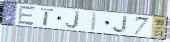7: (132, 16, 151, 36)
E: (16, 5, 38, 27)
I: (90, 12, 99, 33)
J: (65, 10, 81, 29), (113, 15, 129, 34)
T: (40, 7, 56, 27)
